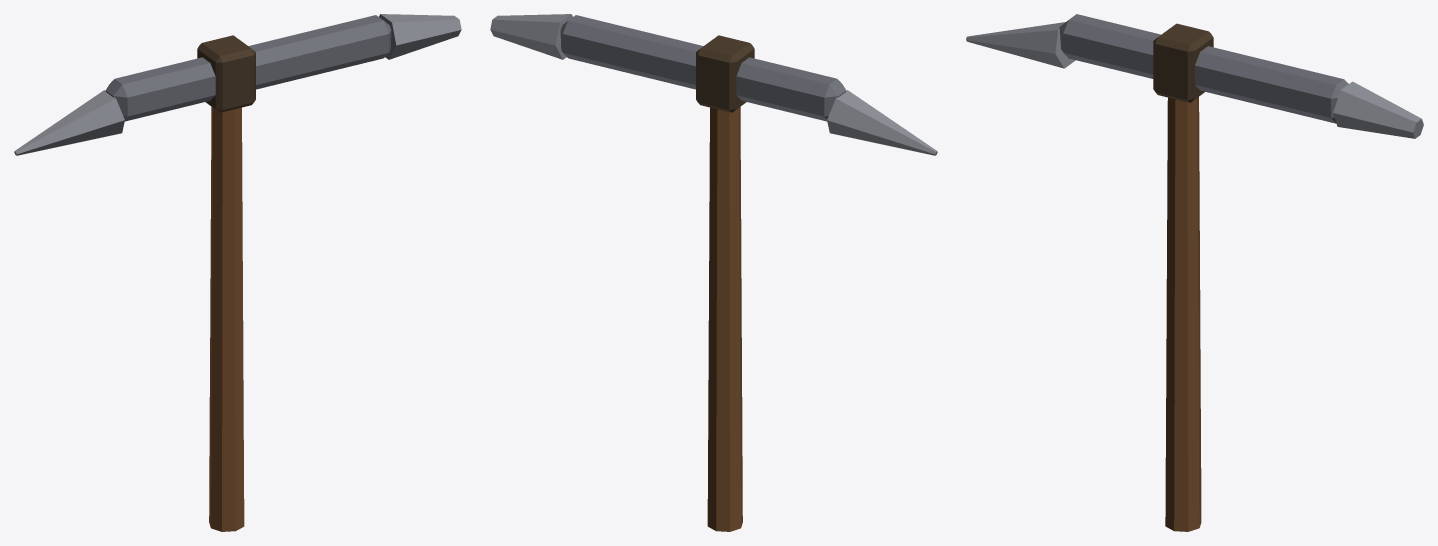
The model's file is pickaxe.glb.
3 views of the same model, side by side, from view 1: azimuth 30°, elevation 25°; view 2: azimuth 150°, elevation 25°; view 3: azimuth 330°, elevation 25° (orthographic). The views are drawn at different scales.
Parts seen in each view (by area): view 1: Cone, Cube, Cube.001, Cone.001, Cone.002; view 2: Cone, Cube, Cube.001, Cone.001, Cone.002; view 3: Cone, Cube, Cube.001, Cone.002, Cone.001.
Part boxes in pixels (left/top/right/bottom): Cone: left=209, top=107, right=244, bottom=531; Cube: left=105, top=15, right=391, bottom=121; Cube.001: left=197, top=35, right=255, bottom=112; Cone.001: left=14, top=90, right=124, bottom=155; Cone.002: left=379, top=14, right=461, bottom=59; Cone: left=707, top=107, right=742, bottom=531; Cube: left=560, top=15, right=846, bottom=121; Cube.001: left=696, top=35, right=754, bottom=112; Cone.001: left=827, top=90, right=937, bottom=155; Cone.002: left=490, top=14, right=572, bottom=59; Cone: left=1165, top=97, right=1201, bottom=531; Cube: left=1059, top=14, right=1348, bottom=123; Cube.001: left=1153, top=23, right=1213, bottom=102; Cone.002: left=1333, top=81, right=1423, bottom=138; Cone.001: left=966, top=22, right=1075, bottom=68.
Bounding box in the file's own units: 0.9803 × 1.01 × 0.09.
